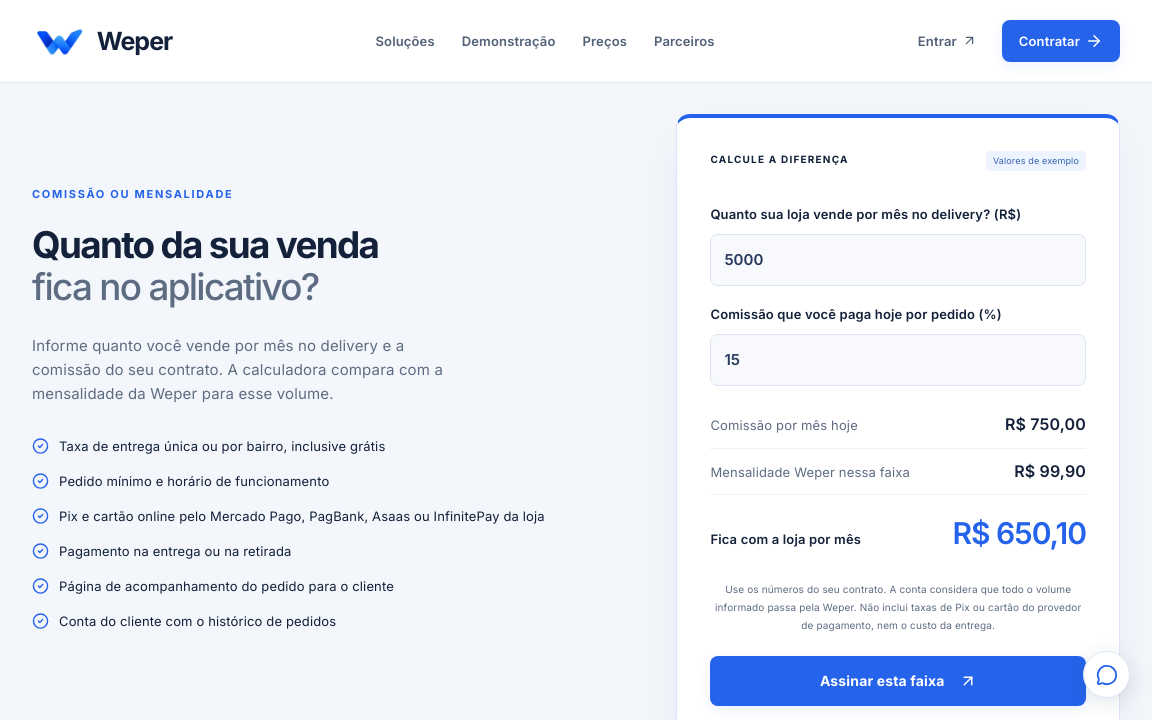
Test: calculator never shows a negative difference
(page scrolled)
Replace the text in the number field labelled "Comissão que você paga hoje por pedido (%)" with "0" at (898, 360), box [710,334,1086,386]
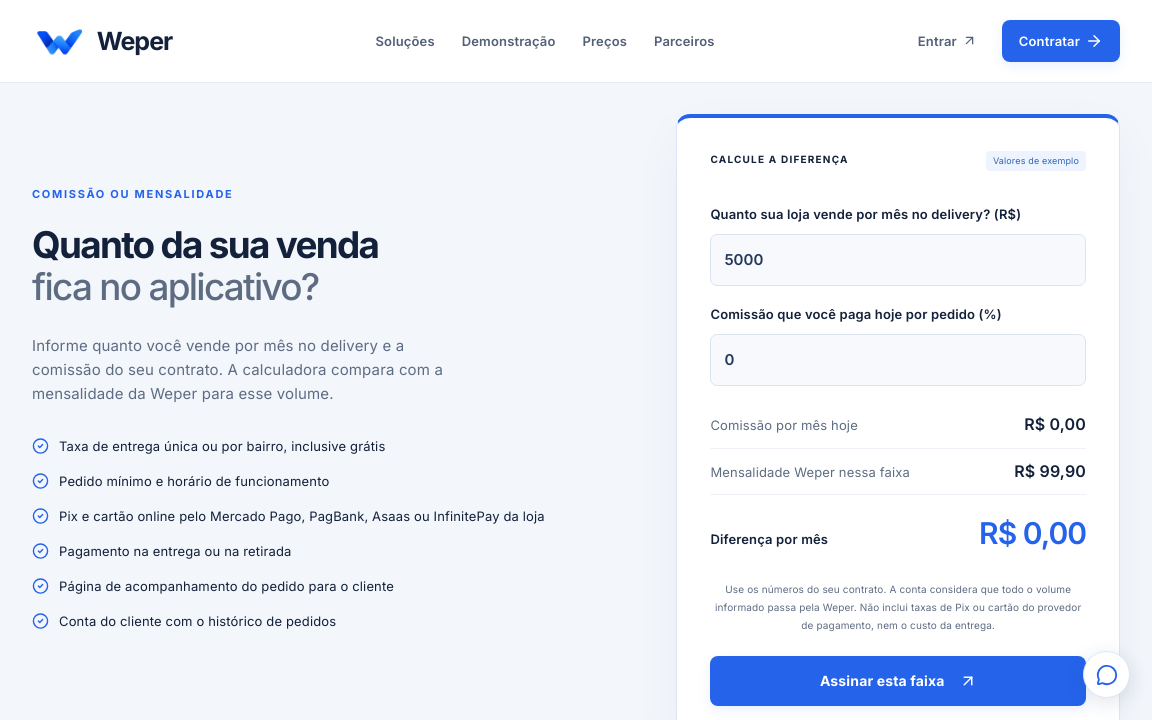
Now the text with test id "delivery-difference" reads "R$ 0,00", box [979,515,1086,551]
Now the text "Diferença por mês" is shown, box [710,529,828,550]
